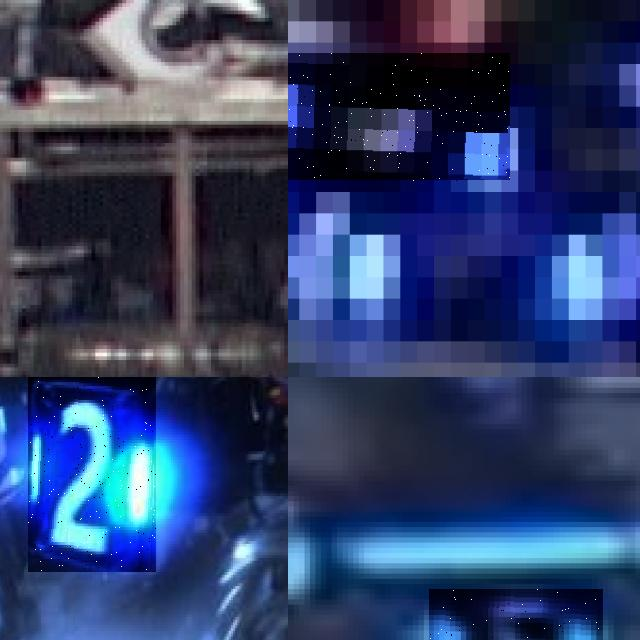B2: (28, 377, 156, 572)
B4: (288, 53, 509, 181), (288, 159, 417, 373)
B5: (429, 589, 602, 640)
